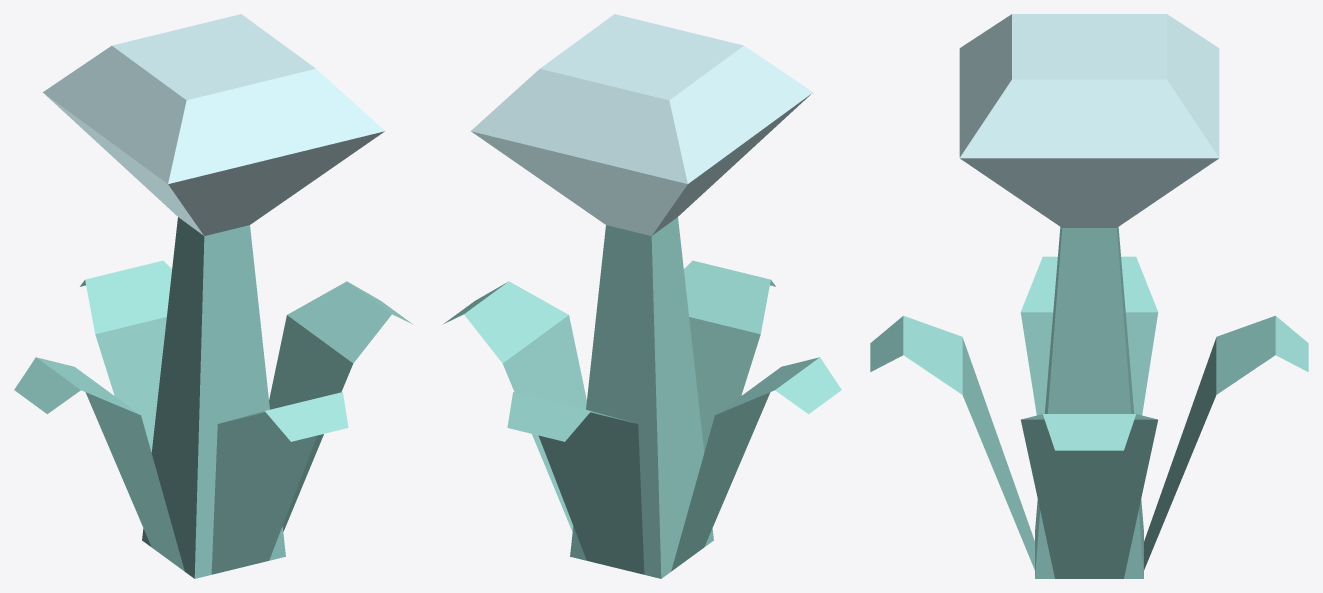
Rendered from flower_blue2.glb.
3 renders of one model, left to right at view 1: azimuth 30°, elevation 25°; view 2: azimuth 150°, elevation 25°; view 3: azimuth 270°, elevation 25°, orthographic. The views are drawn at different scales.
Visible parts, largest first — view 1: flower_blue2; view 2: flower_blue2; view 3: flower_blue2.
Boxes of the visible parts, x1,y1,x2,y2 form: flower_blue2: (14, 14, 412, 578); flower_blue2: (443, 14, 841, 578); flower_blue2: (870, 14, 1308, 578).
Bounding box in the file's own units: 0.1714 × 0.2196 × 0.1714.
